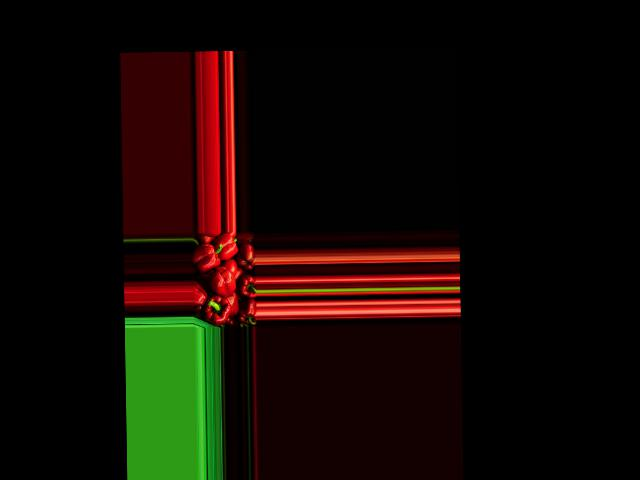bell_pepper: (237, 299, 256, 325)
